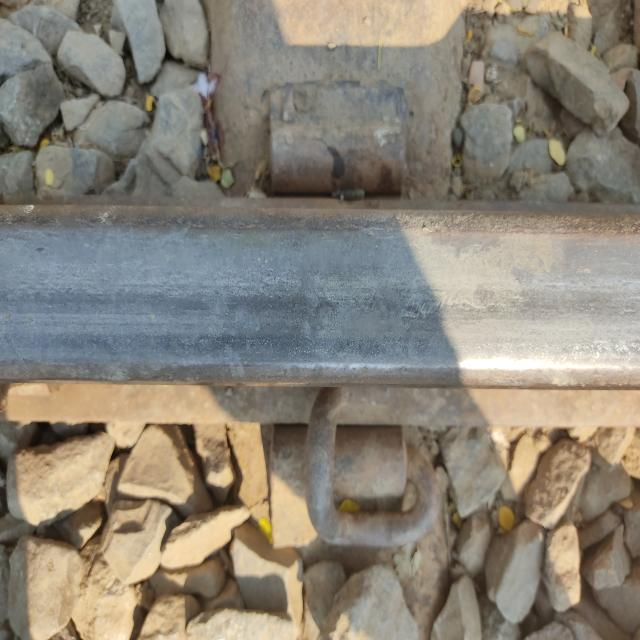defective: (233, 31, 443, 226)
